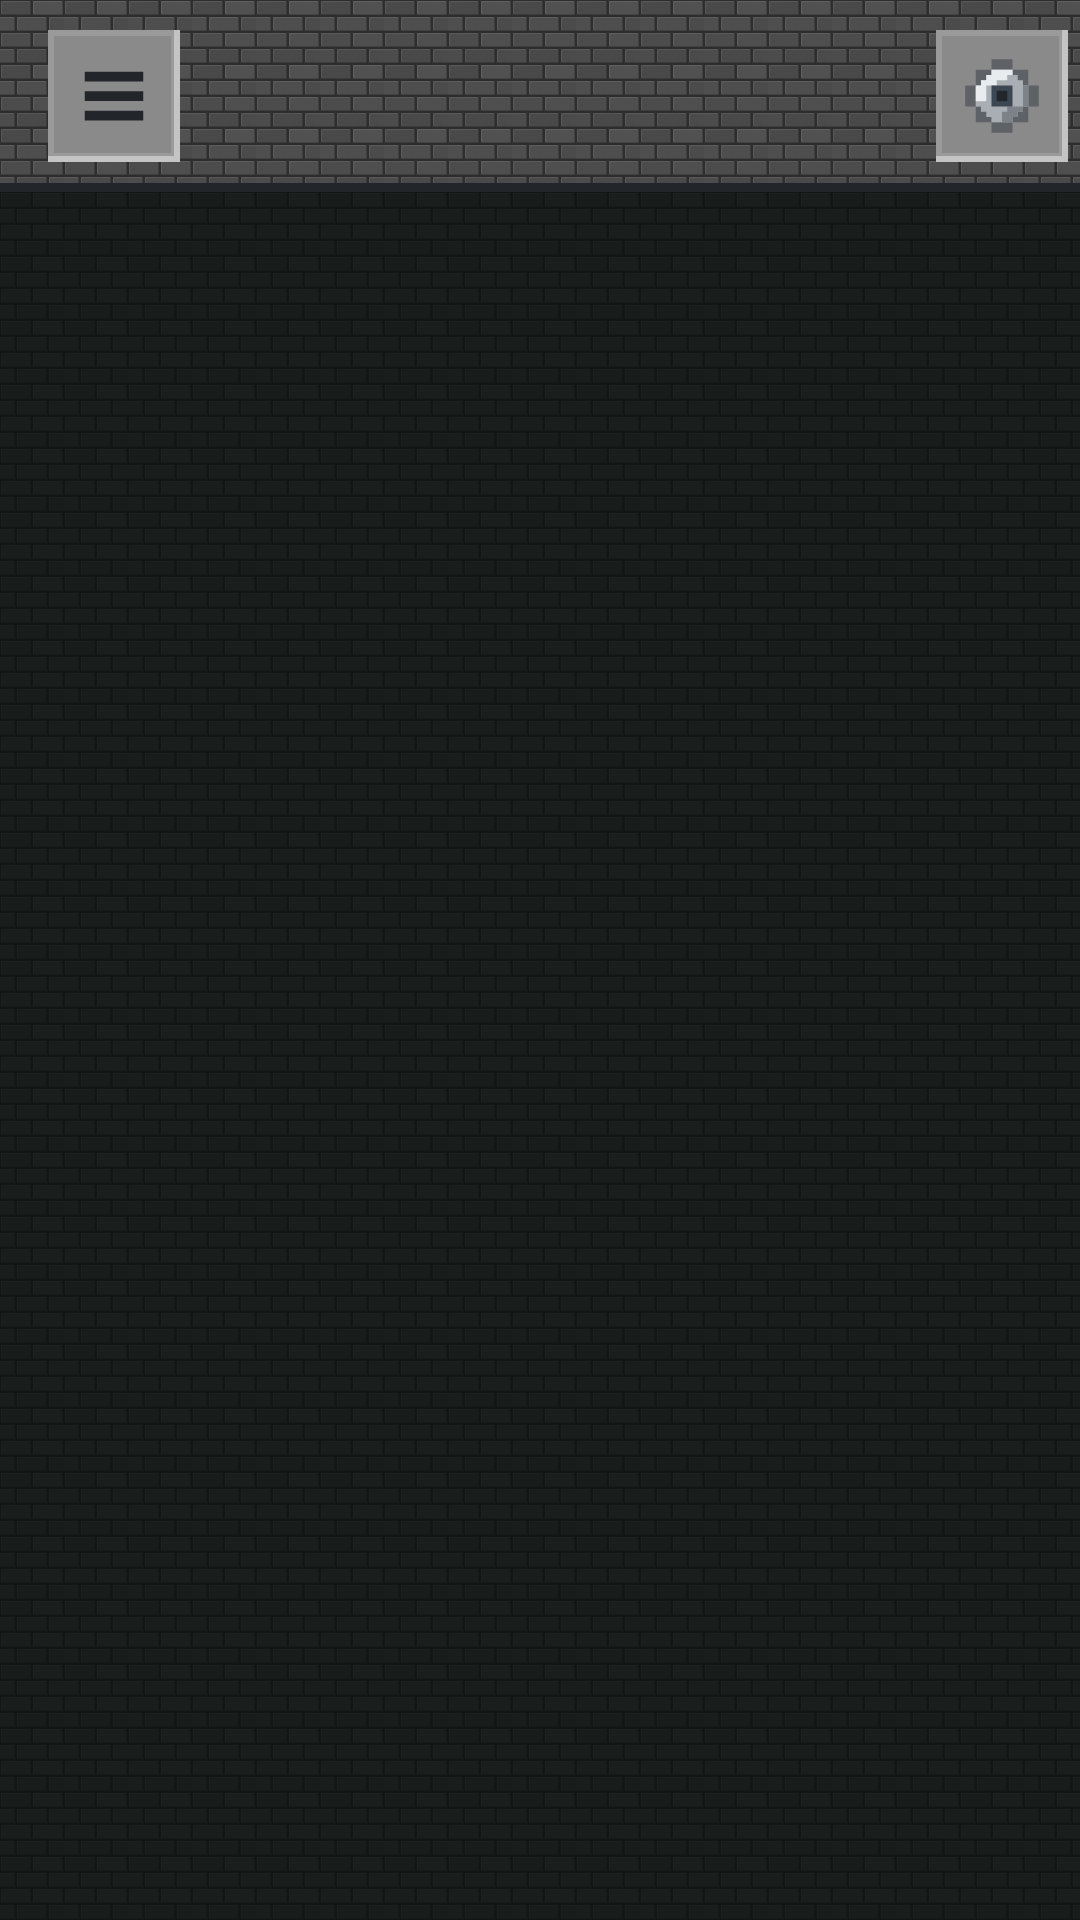

Where icons sit on this 1080x1920 app screen, as detection(x1, y1, x2, y2):
Apri il menu: detection(48, 30, 180, 162)
Impostazioni: detection(936, 30, 1068, 162)
